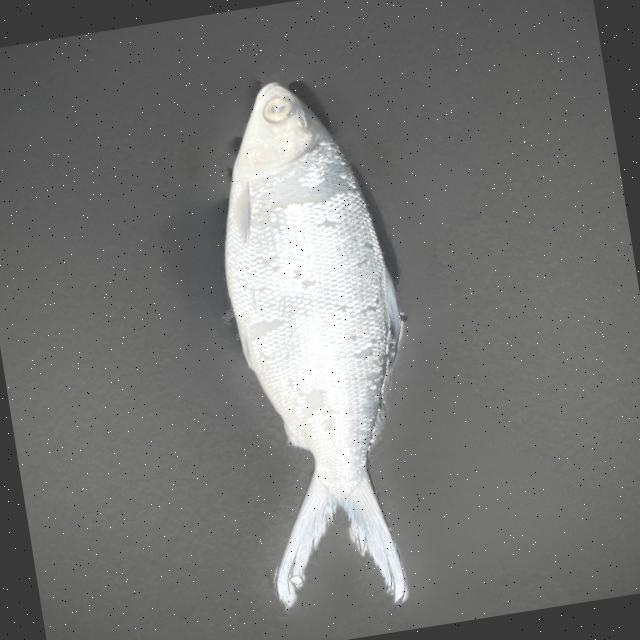600 g: (197, 68, 445, 626)
